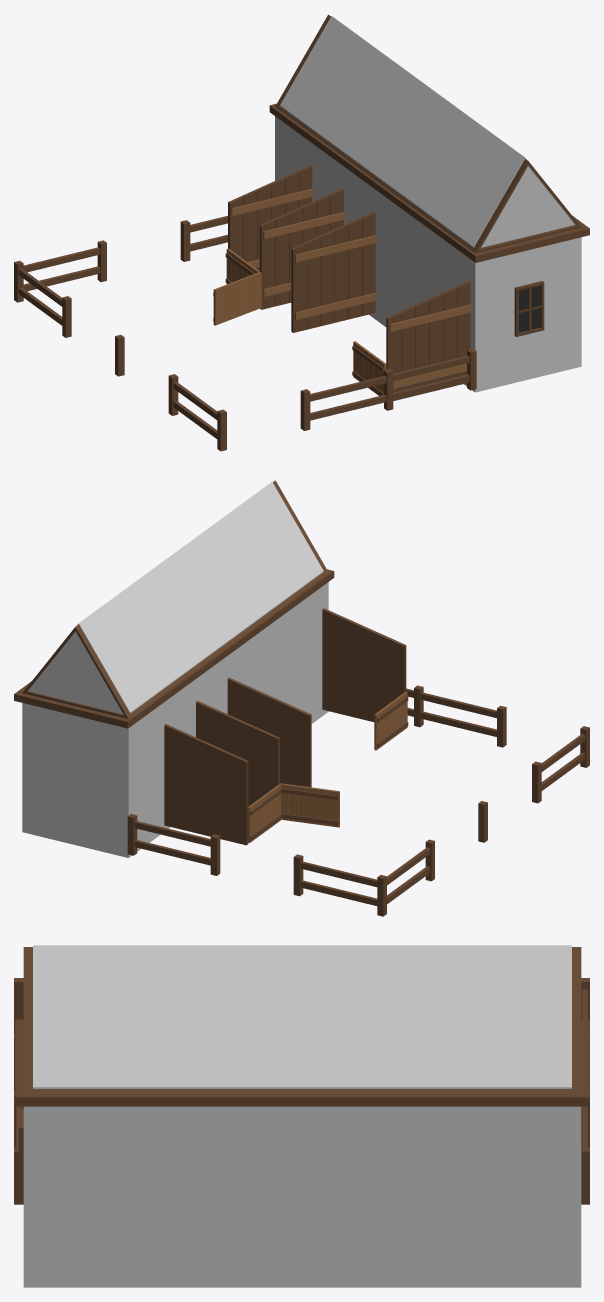
The model's file is Stable_build_snow_mat.fbx.
3 renders of one model, top to bottom at view 1: azimuth 30°, elevation 25°; view 2: azimuth 150°, elevation 25°; view 3: azimuth 270°, elevation 25°, orthographic. The views are drawn at different scales.
Parts seen in each view (by area): view 1: Stable_build_snow_mat; view 2: Stable_build_snow_mat; view 3: Stable_build_snow_mat.
Boxes of the visible parts, left/top/right/bottom form: Stable_build_snow_mat: left=14, top=14, right=589, bottom=451; Stable_build_snow_mat: left=14, top=480, right=589, bottom=916; Stable_build_snow_mat: left=14, top=945, right=589, bottom=1287.
Size of the model in its own units: 690 by 392 by 668.
